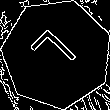L_SE: (28, 25, 86, 83)
